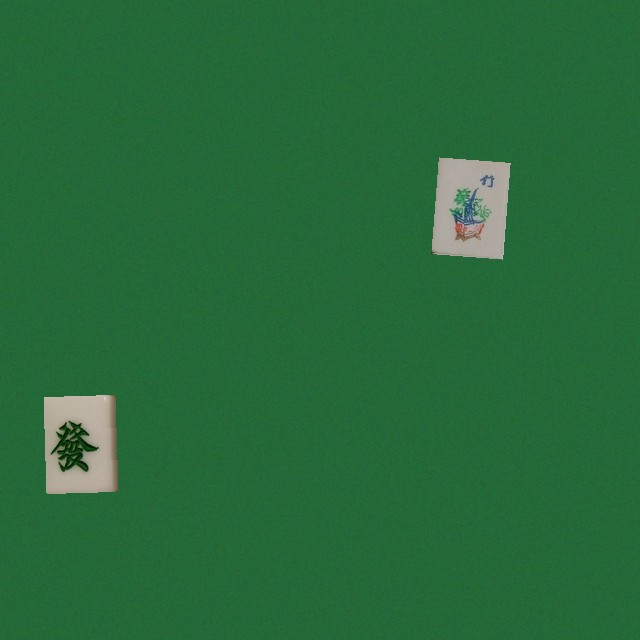tile: (43, 394, 115, 491), (431, 157, 503, 254)
